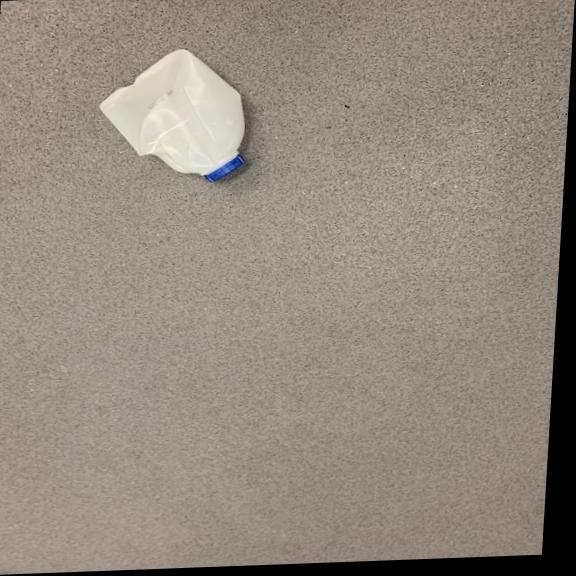Plastik: (91, 43, 257, 193)
